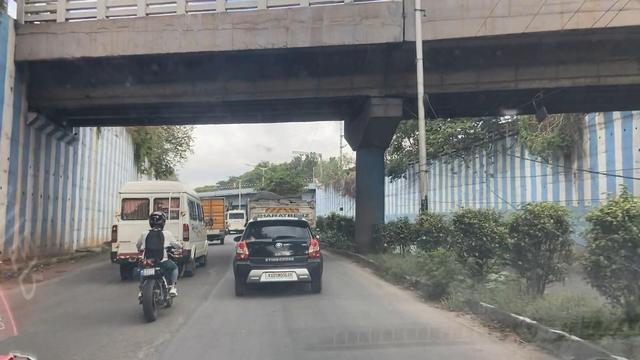HMV: (115, 183, 207, 273)
LMV: (237, 217, 321, 291), (136, 215, 179, 324)
